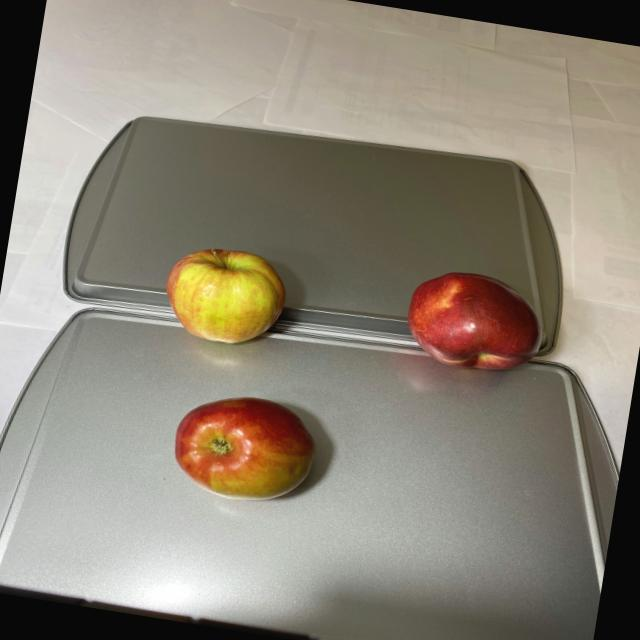apple: (132, 239, 355, 512), (393, 261, 553, 389)
